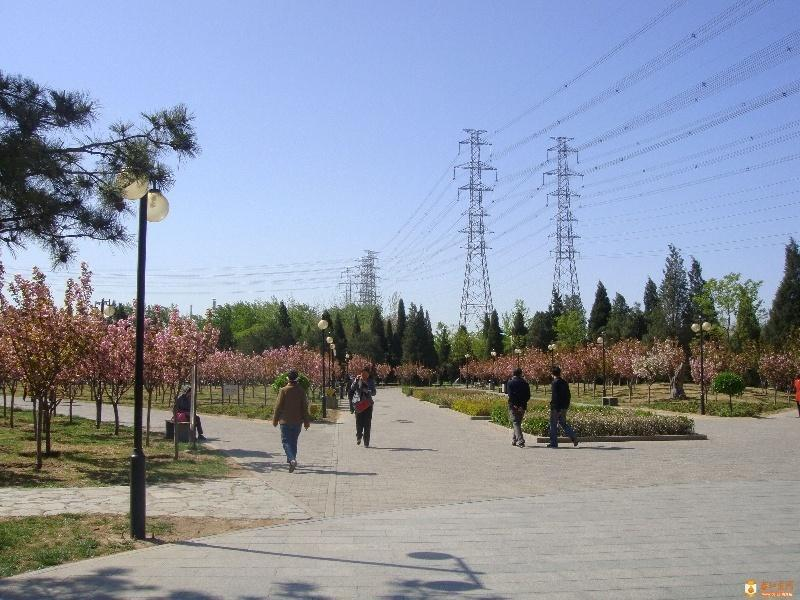power_tower: (535, 124, 593, 327), (451, 122, 504, 338), (354, 246, 384, 306), (336, 264, 360, 306)
